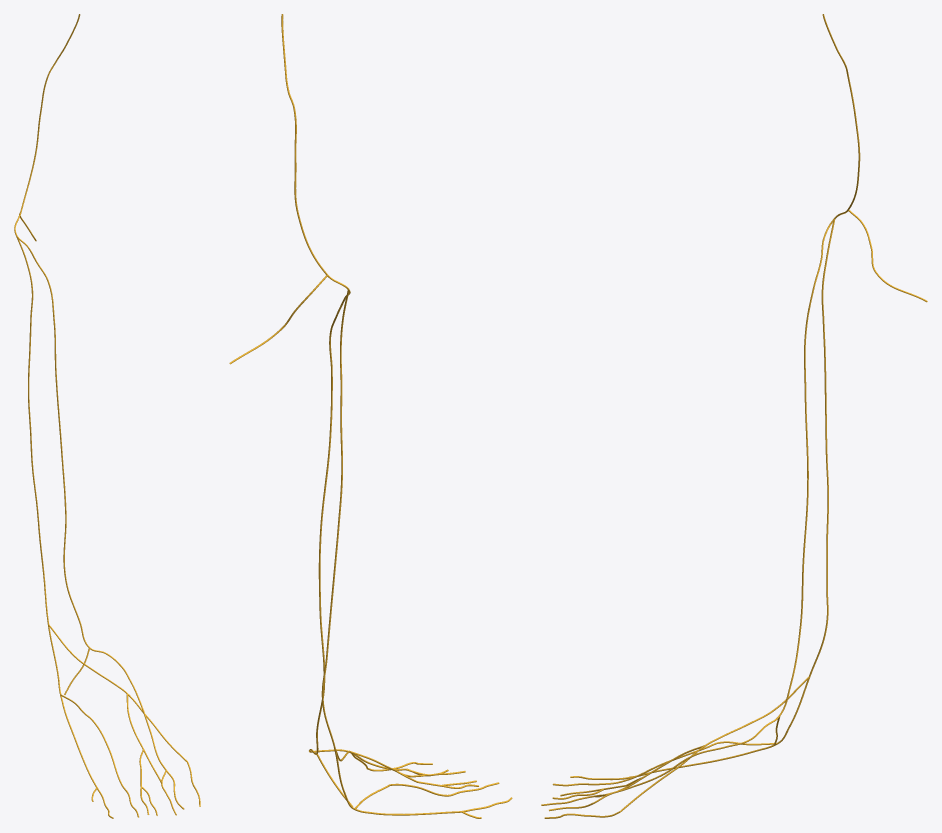
File: nervoso-common-fibular-nerve-r.glb
The picture shows the model from 3 angles, left to right: view 1: azimuth 30°, elevation 25°; view 2: azimuth 150°, elevation 25°; view 3: azimuth 270°, elevation 25°; orthographic projection. The views are drawn at different scales.
Visible parts, largest first — view 1: Deep fibular nerve.r, Superficial fibular nerve.r, Dorsal digital branches of superficial fibular nerve.r, Medial dorsal cutaneous nerve of foot.r, Common fibular nerve.r, Intermediate dorsal cutaneous nerve of foot.r; view 2: Deep fibular nerve.r, Superficial fibular nerve.r, Dorsal digital branches of superficial fibular nerve.r, Common fibular nerve.r; view 3: Deep fibular nerve.r, Superficial fibular nerve.r, Dorsal digital branches of superficial fibular nerve.r, Medial dorsal cutaneous nerve of foot.r.
Part boxes in pixels (box(x1,y1,x2,y2)): Deep fibular nerve.r: box(15, 232, 150, 731); Superficial fibular nerve.r: box(16, 237, 48, 624); Dorsal digital branches of superficial fibular nerve.r: box(81, 747, 200, 818); Medial dorsal cutaneous nerve of foot.r: box(48, 624, 187, 770); Common fibular nerve.r: box(14, 14, 80, 232); Intermediate dorsal cutaneous nerve of foot.r: box(48, 625, 108, 755); Deep fibular nerve.r: box(309, 290, 369, 763); Superficial fibular nerve.r: box(321, 290, 349, 749); Dorsal digital branches of superficial fibular nerve.r: box(367, 762, 512, 818); Common fibular nerve.r: box(281, 14, 349, 290); Deep fibular nerve.r: box(660, 218, 833, 776); Superficial fibular nerve.r: box(809, 219, 835, 676); Dorsal digital branches of superficial fibular nerve.r: box(544, 762, 686, 818); Medial dorsal cutaneous nerve of foot.r: box(618, 676, 809, 812).
Size of the model in its own units: 0.0765 by 0.5265 by 0.2284.
